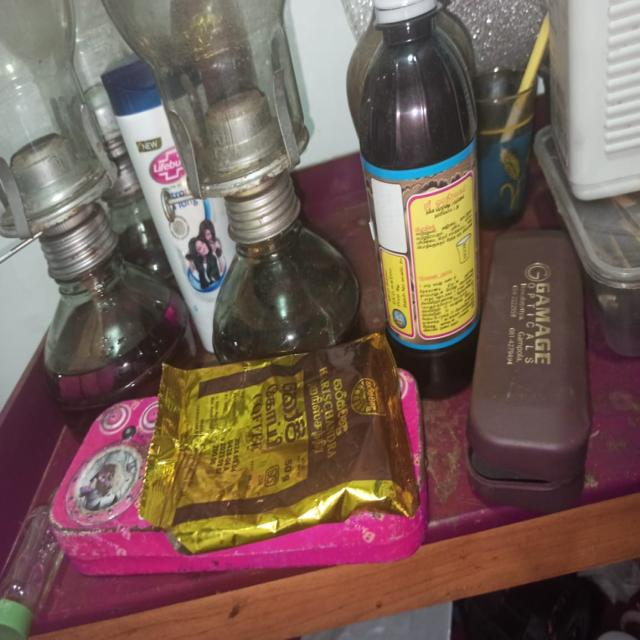Harischandra Coffee: (134, 356, 433, 569)
